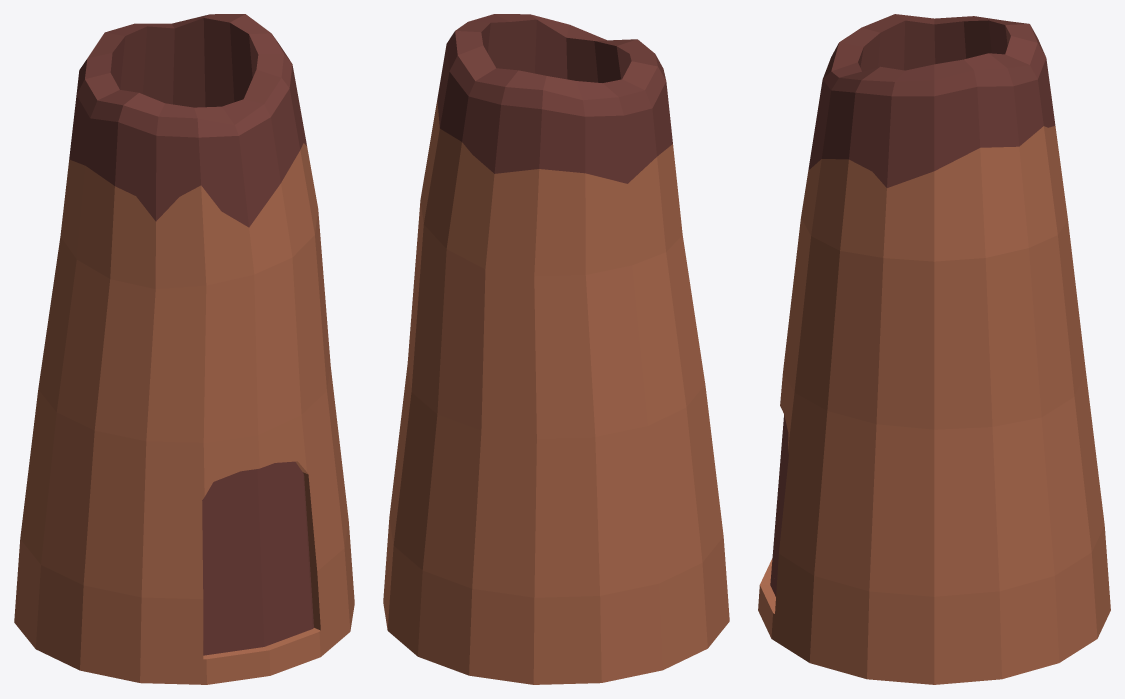
Rendered from Shaft Furnance 01.fbx.
3 renders of one model, left to right at view 1: azimuth 30°, elevation 25°; view 2: azimuth 150°, elevation 25°; view 3: azimuth 270°, elevation 25°, orthographic. The views are drawn at different scales.
Parts seen in each view (by area): view 1: Shaft Furnance 01, Shaft Furnance 01 Door Pice 01, Shaft Furnance 01 Door Pice 02, Shaft Furnance 01 Door Pice 03, Shaft Furnance 01 Door Pice 04; view 2: Shaft Furnance 01; view 3: Shaft Furnance 01, Shaft Furnance 01 Door Pice 01.
Boxes of the visible parts, x1=… form: Shaft Furnance 01: x1=14, y1=14, x2=354, y2=684; Shaft Furnance 01 Door Pice 01: x1=202, y1=472, x2=307, y2=607; Shaft Furnance 01 Door Pice 02: x1=202, y1=461, x2=302, y2=556; Shaft Furnance 01 Door Pice 03: x1=243, y1=536, x2=313, y2=636; Shaft Furnance 01 Door Pice 04: x1=203, y1=585, x2=291, y2=655; Shaft Furnance 01: x1=383, y1=14, x2=729, y2=684; Shaft Furnance 01: x1=758, y1=14, x2=1110, y2=684; Shaft Furnance 01 Door Pice 01: x1=775, y1=454, x2=788, y2=528.
Size of the model in its own units: 116 by 210 by 116.
